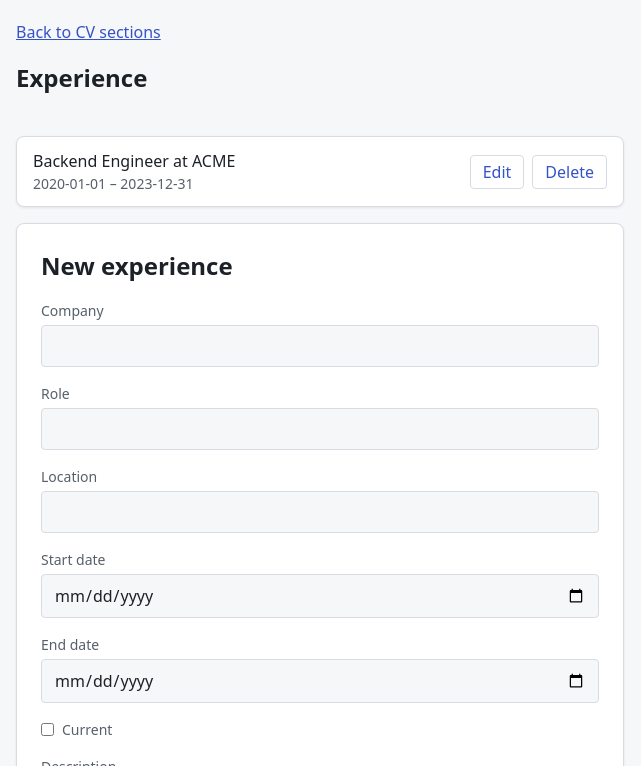
Test: ExperiencesPage › a POST answered 404 (person deleted) says so and keeps the draft
Expected: the text "Backend Engineer at ACME 2020-01-01 – 2023-12-31" is shown, [33,150,235,193]
Type "Globex" into the field labelled "Company". click: (320,346)
box: [41,325,599,367]
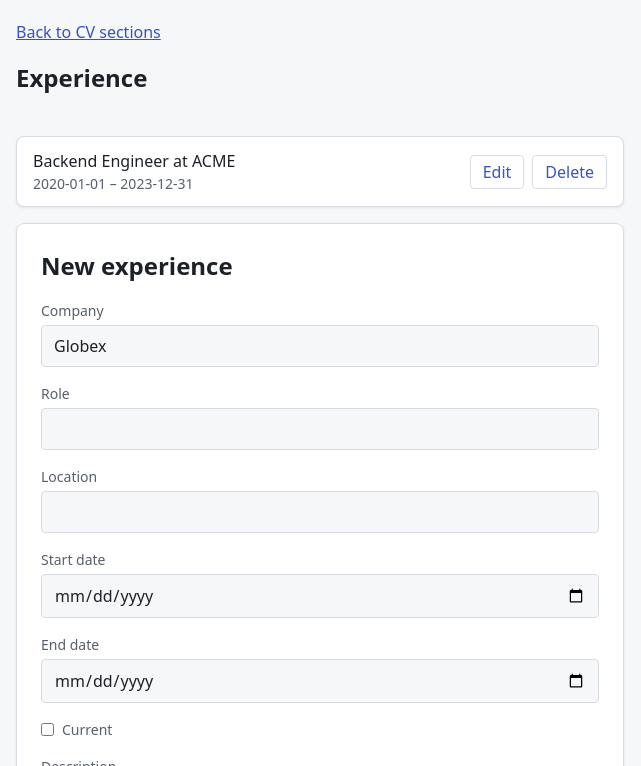
Type "CTO" into the field labelled "Role". click: (320,429)
box: [41,408,599,450]
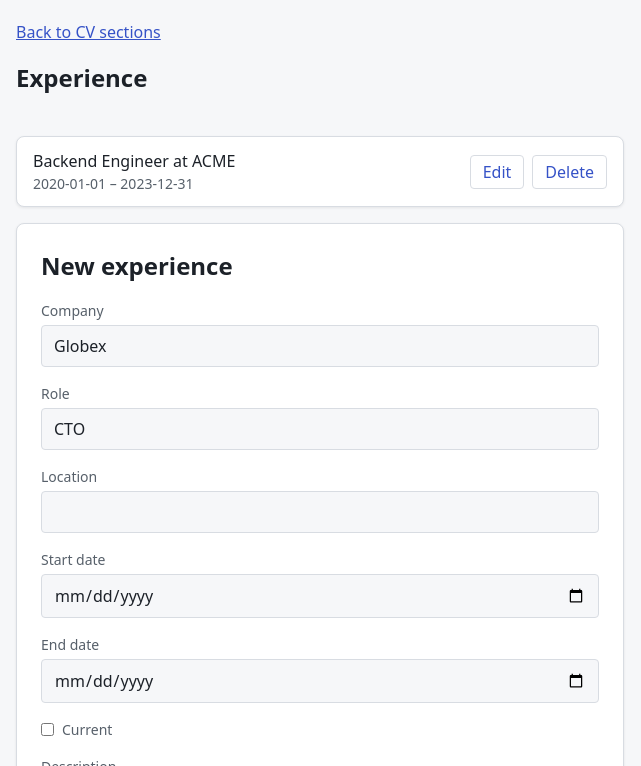
Type "2025-02-01" into the date field labelled "Start date". click: (320,596)
box: [41,574,599,618]
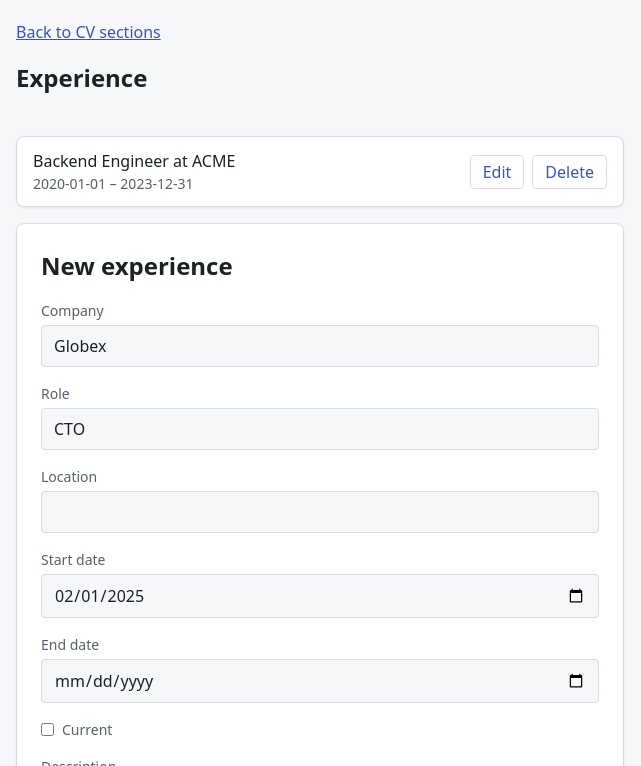
Click the checkbox labelled "Current". click: (48,730)
box: [41,723,54,736]
(page scrolled)
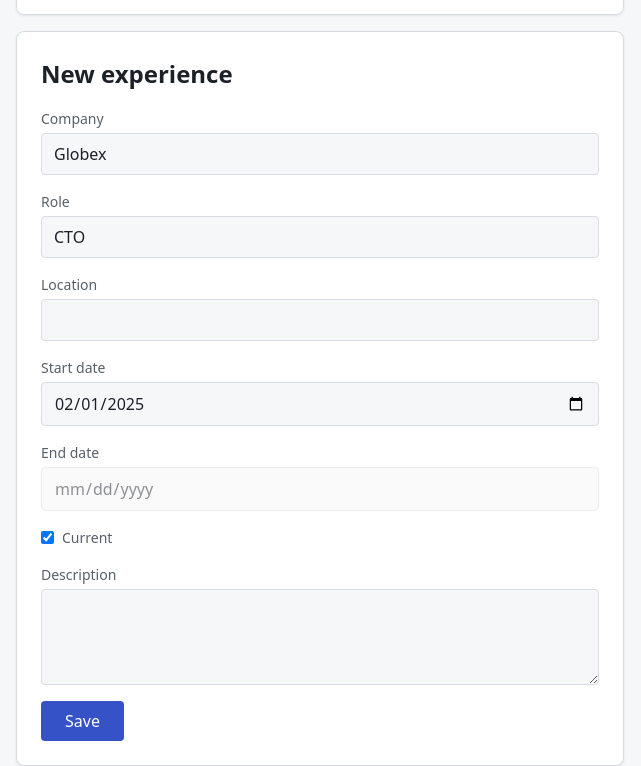
Click the button "Save". click: (82,721)
box: [41,701,124,741]
(page scrolled)
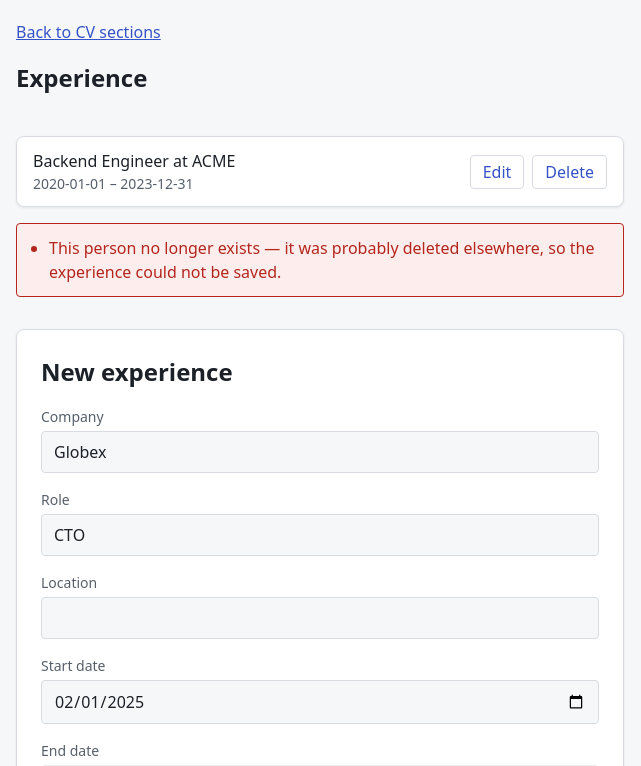
Expected: the text "Backend Engineer at ACME 2020-01-01 – 2023-12-31" is shown, [33,150,235,193]
Expected: the message shows "This person no longer exists — it was probably deleted elsewhere, so the experience could not be saved.", [49,237,594,283]
